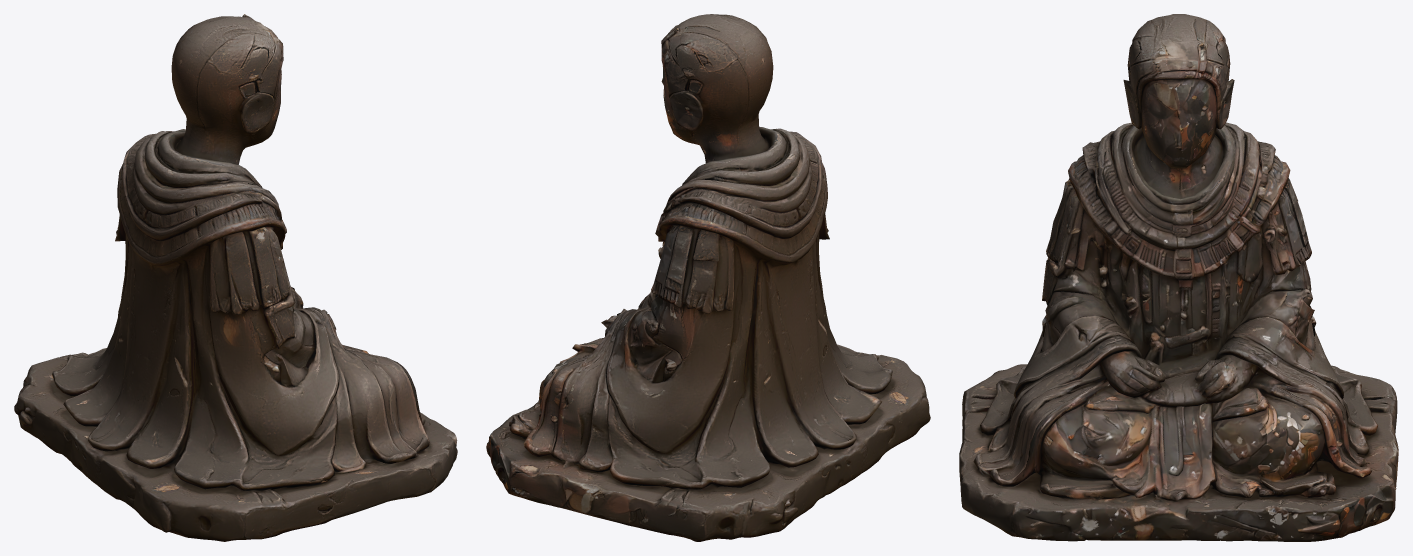
3 views of the same model, side by side, from view 1: azimuth 30°, elevation 25°; view 2: azimuth 150°, elevation 25°; view 3: azimuth 270°, elevation 25° (orthographic). The views are drawn at different scales.
Visible parts, largest first — view 1: tripo_node_335beb33-23fd-44e4-becf-c3af2592bccf; view 2: tripo_node_335beb33-23fd-44e4-becf-c3af2592bccf; view 3: tripo_node_335beb33-23fd-44e4-becf-c3af2592bccf.
Part boxes in pixels (box(x1,y1,x2,y2)): tripo_node_335beb33-23fd-44e4-becf-c3af2592bccf: box(14, 14, 457, 541); tripo_node_335beb33-23fd-44e4-becf-c3af2592bccf: box(486, 14, 930, 541); tripo_node_335beb33-23fd-44e4-becf-c3af2592bccf: box(959, 14, 1398, 541).
Bounding box in the file's own units: 0.7367 × 1 × 0.8981.
Materials: 1 (1 with a texture image).
